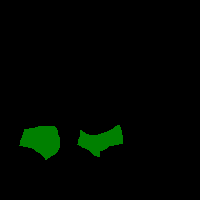mutande: (77, 124, 123, 157), (19, 125, 60, 160)
